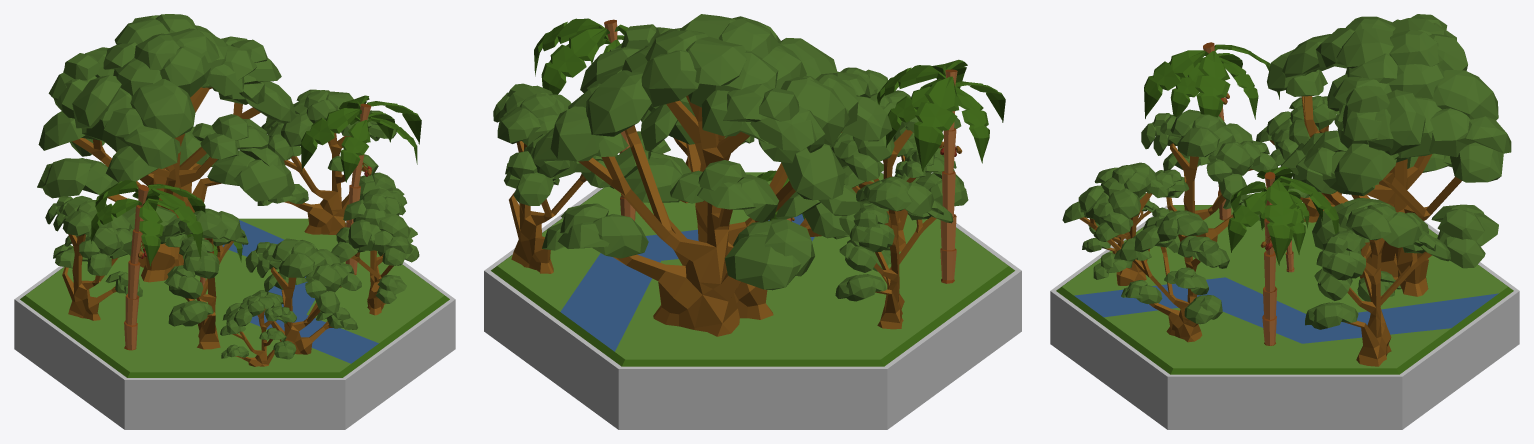
File: Provinces_ParqueNacionalYasuni.fbx
The picture shows the model from 3 angles, left to right: view 1: azimuth 30°, elevation 25°; view 2: azimuth 150°, elevation 25°; view 3: azimuth 270°, elevation 25°; orthographic projection. The views are drawn at different scales.
Visible parts, largest first — view 1: 22.Provinces_ParqueNacionalYasuni; view 2: 22.Provinces_ParqueNacionalYasuni; view 3: 22.Provinces_ParqueNacionalYasuni.
Part boxes in pixels (x1,y1,x2,y2): 22.Provinces_ParqueNacionalYasuni: (14, 14, 455, 429); 22.Provinces_ParqueNacionalYasuni: (484, 14, 1021, 429); 22.Provinces_ParqueNacionalYasuni: (1050, 14, 1519, 429).
Bounding box in the file's own units: 184 × 145 × 200.
